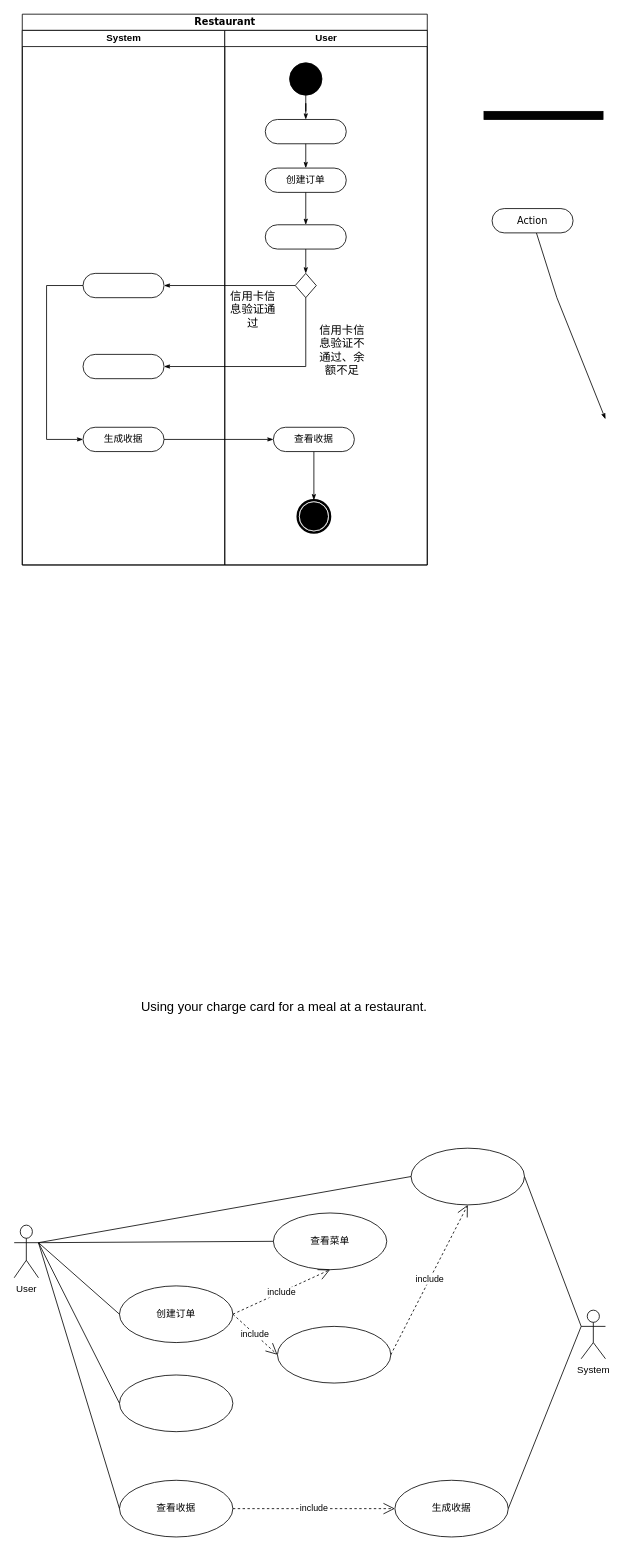
The diagram is 625 pixels wide and 1551 high, and some of its shapes have lost their labels. Here are the shapes that lost their labels. From the top down, the centre of each, then its label:
At point (305, 131): "用户查看菜单".
At point (305, 236): "信用卡支付点餐".
At point (123, 285): "支付扣费".
At point (123, 366): "信息提示，更换支付方式".
At point (467, 1176): "信息验证".
At point (334, 1354): "支付点餐".
At point (176, 1403): "查看历史记录".
